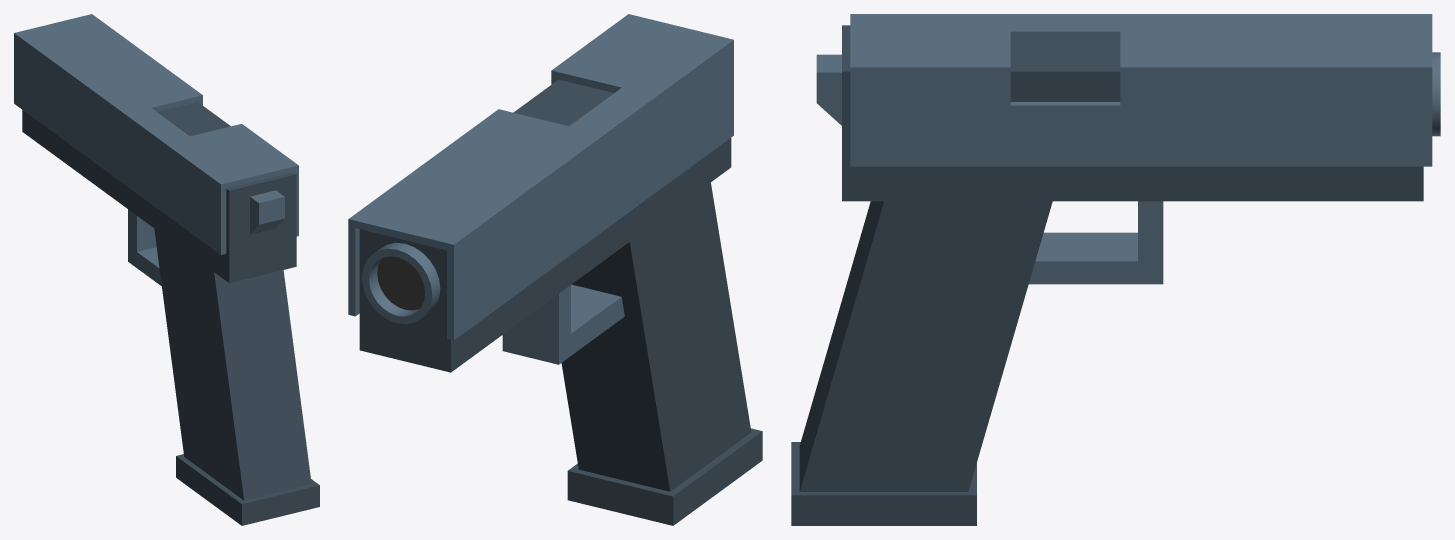
File: pistol.fbx
3 views of the same model, side by side, from view 1: azimuth 30°, elevation 25°; view 2: azimuth 150°, elevation 25°; view 3: azimuth 270°, elevation 25° (orthographic). The views are drawn at different scales.
Parts seen in each view (by area): view 1: Group (×2); view 2: Group (×2); view 3: Group (×2).
Part boxes in pixels (left/top/right/bottom): Group (×2): left=14, top=14, right=319, bottom=525; Group (×2): left=348, top=14, right=762, bottom=525; Group (×2): left=791, top=14, right=1440, bottom=525.
Size of the model in its own units: 0.5742 by 2.3 by 2.95.
